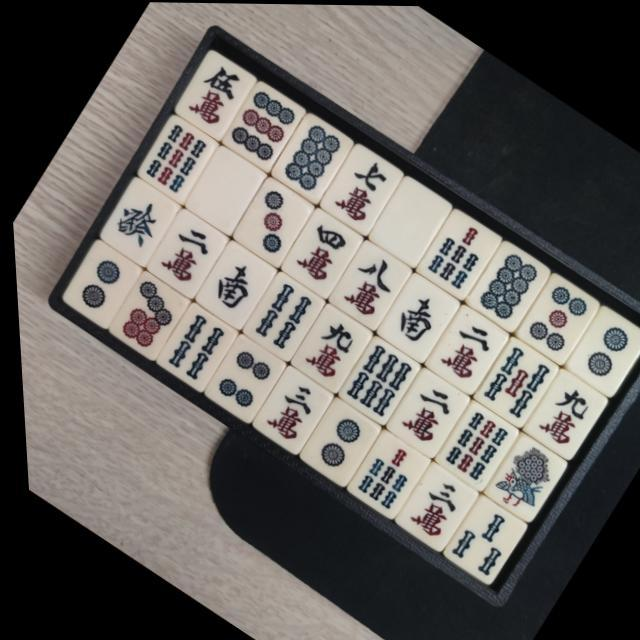hdg: (99, 182, 176, 261)
hdw: (368, 180, 448, 262), (184, 149, 262, 229)
hws: (374, 275, 454, 358), (194, 246, 270, 324)
sb1: (478, 434, 560, 519)
sb3: (437, 498, 519, 582)
sb4: (239, 274, 319, 356), (154, 306, 232, 386)
sb5: (471, 339, 554, 424)
sb6: (335, 338, 416, 421)
sb7: (413, 209, 498, 296), (344, 434, 421, 514)
sb9: (431, 403, 511, 486), (136, 118, 213, 198)
sc2: (384, 370, 464, 452), (144, 212, 222, 293), (424, 310, 502, 390)
sc3: (248, 368, 326, 449), (392, 466, 468, 544)
sc4: (278, 212, 357, 294)
sc5: (174, 52, 254, 135)
sc7: (320, 146, 398, 230)
sc8: (327, 242, 408, 326)
sc9: (522, 372, 600, 455), (288, 308, 364, 387)
sd2: (296, 400, 374, 481), (565, 310, 640, 390), (60, 245, 134, 322)
sd3: (230, 180, 310, 262)
sd4: (204, 339, 276, 415)
sd5: (514, 276, 594, 359)
sd7: (104, 274, 185, 357)
sd8: (464, 242, 545, 328), (272, 116, 352, 200)
sd9: (221, 84, 303, 168)
